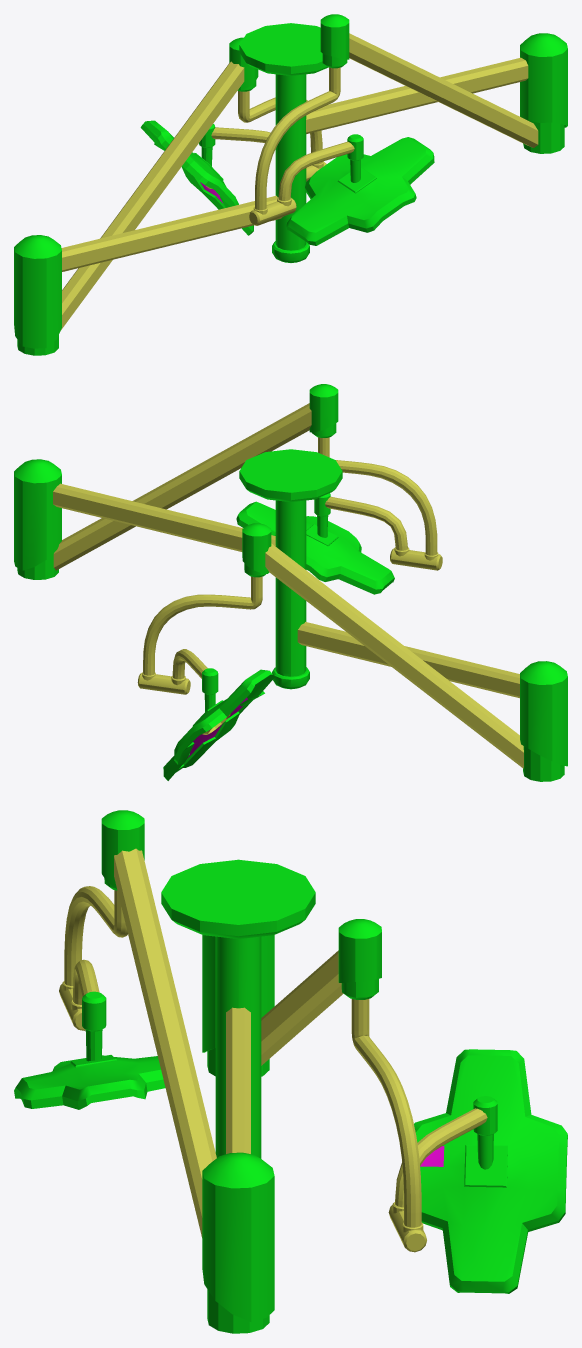
Rendered from Ceiling_Mech_Arm.fbx.
3 views of the same model, one above another, from view 1: azimuth 30°, elevation 25°; view 2: azimuth 150°, elevation 25°; view 3: azimuth 270°, elevation 25° (orthographic). The views are drawn at different scales.
Visible parts, largest first — view 1: Mech_Arm; view 2: Mech_Arm; view 3: Mech_Arm.
Boxes of the visible parts, x1,y1,x2,y2 form: Mech_Arm: (14, 14, 567, 355); Mech_Arm: (14, 384, 567, 781); Mech_Arm: (14, 810, 567, 1333).
Size of the model in its own units: 3.46 by 1.85 by 2.02.
